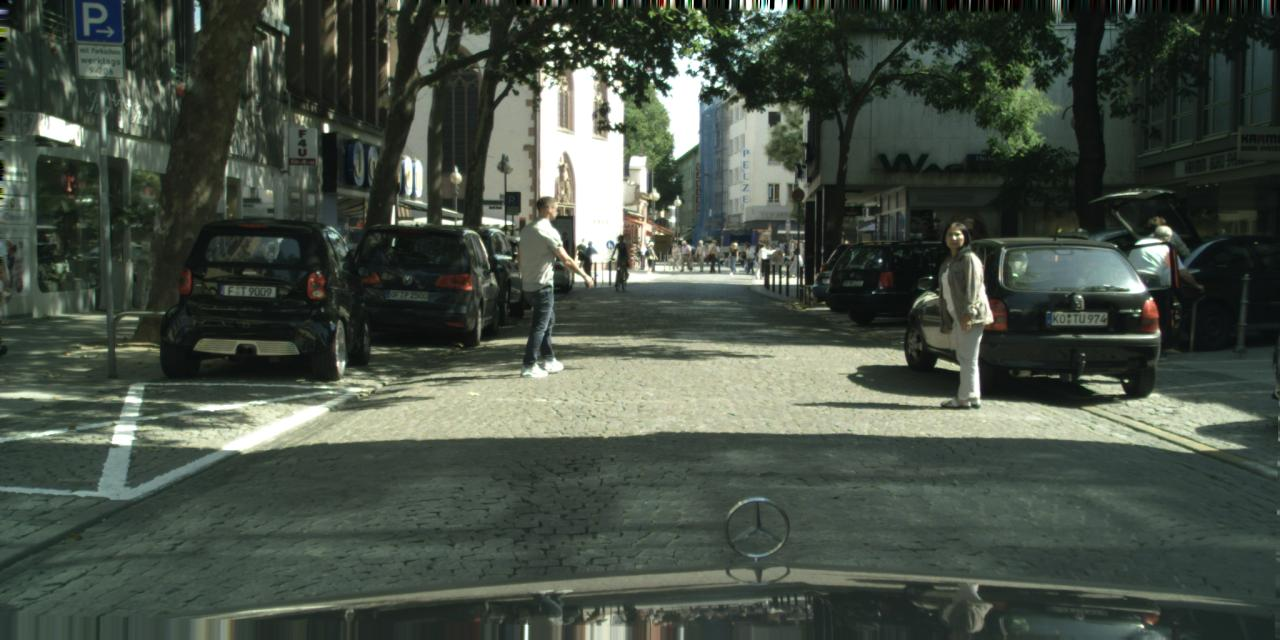ped: (926, 222, 1002, 409), (510, 196, 582, 377), (1128, 224, 1184, 358), (1142, 218, 1196, 350), (741, 242, 797, 280), (671, 238, 720, 272), (611, 234, 630, 282), (576, 238, 596, 280), (726, 241, 740, 274), (799, 246, 804, 275)
